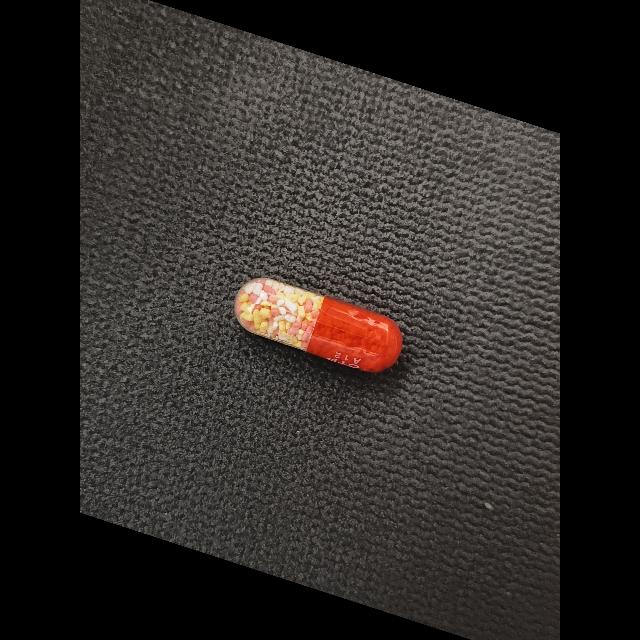Intact Capsule: (234, 278, 403, 373)
